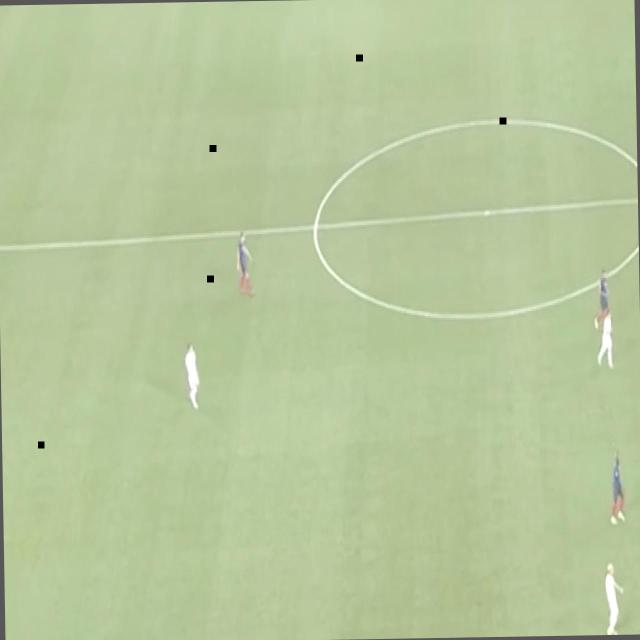player-white: (601, 557, 625, 635), (606, 448, 627, 528), (234, 228, 256, 298), (595, 309, 616, 374), (183, 341, 202, 412), (591, 266, 611, 332)
